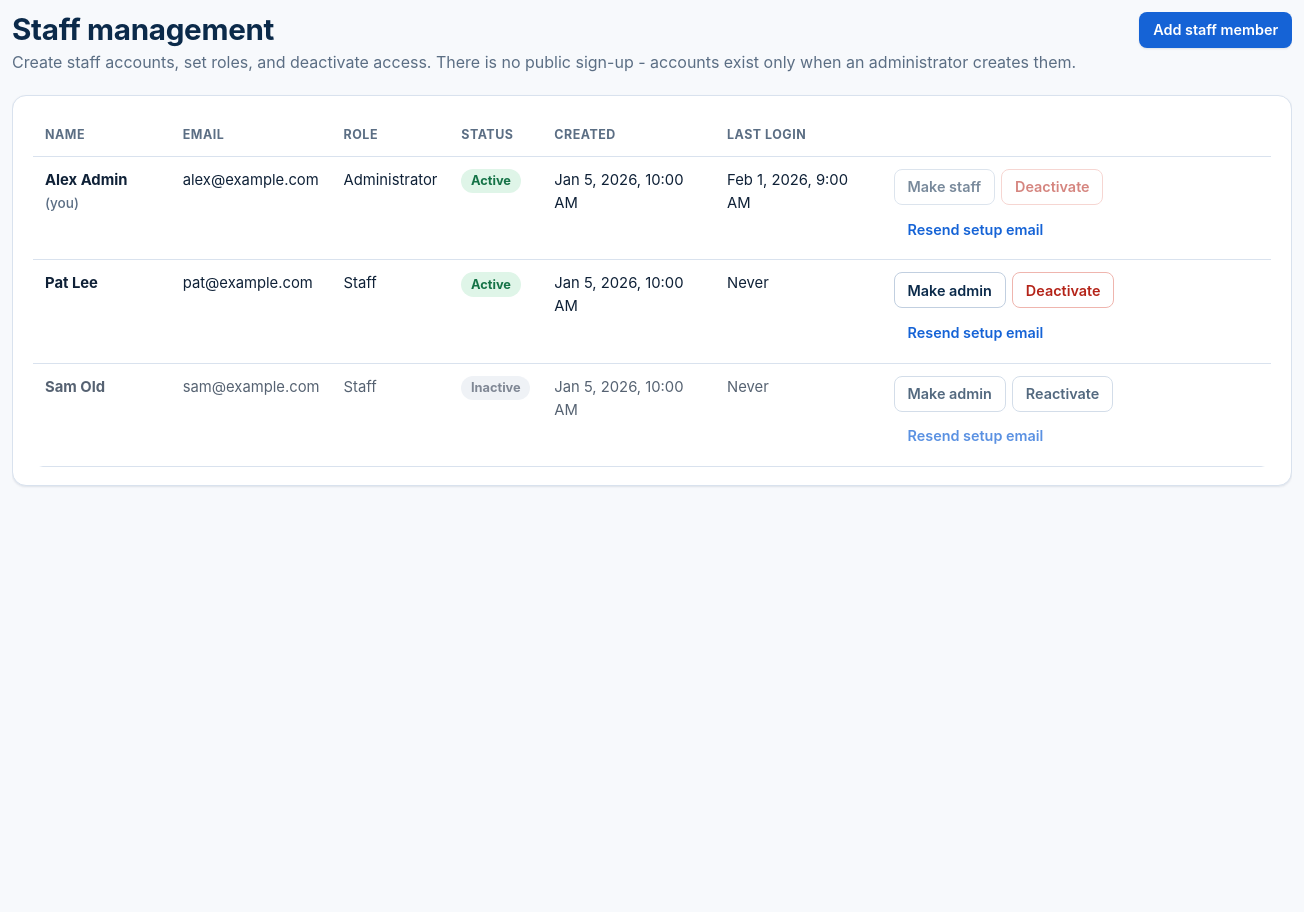
it: staff management (admin only page) › creates a staff member and emails a password-setup link (no password is ever entered)
Expected: the text "Pat Lee" is shown, [45,274,98,292]
Click the button "Add staff member" at (1216, 30), box [1139,12,1292,48]
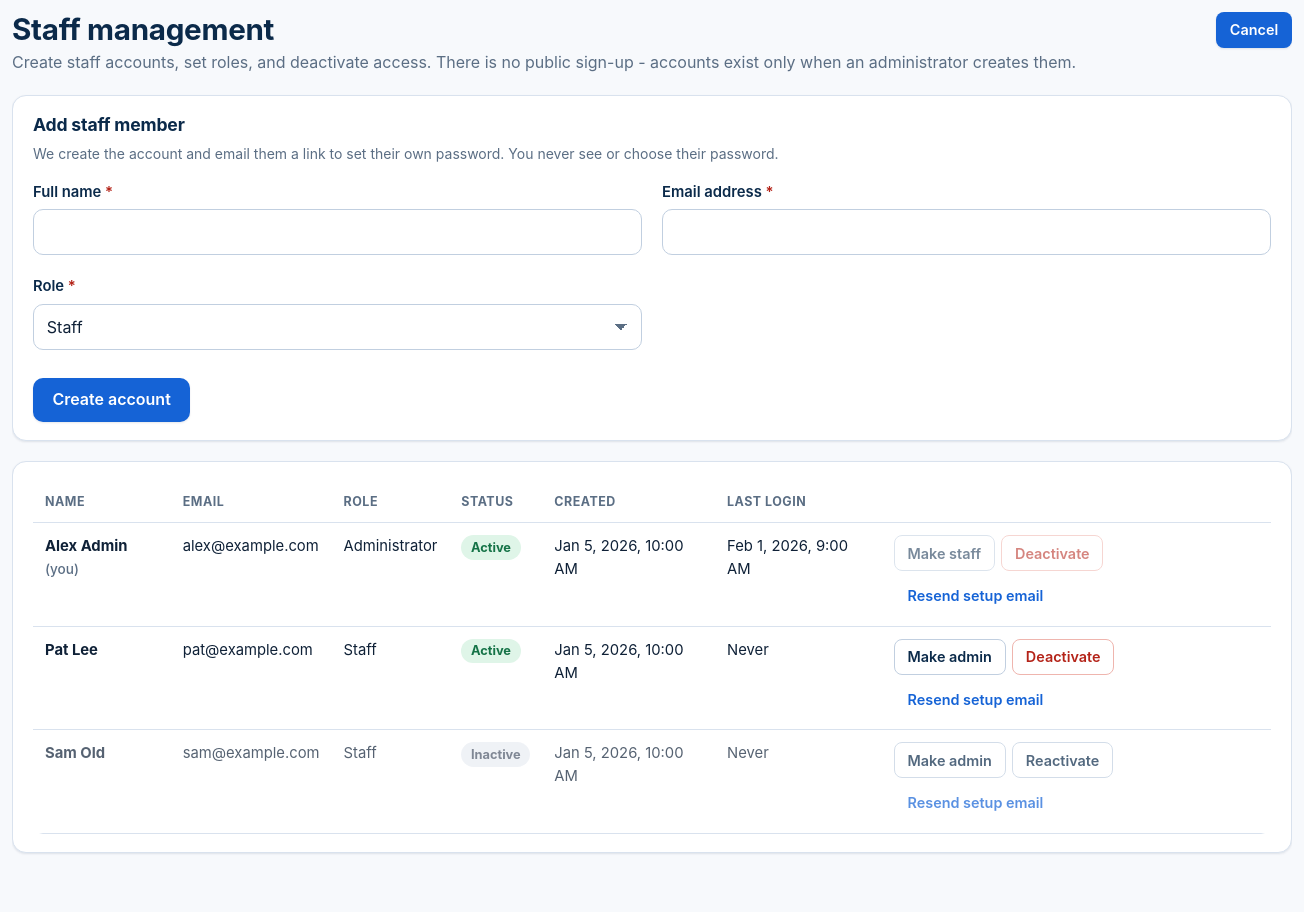
Type "Jo Nguyen" into the field labelled "Full name *" at (338, 232), box [33,209,642,255]
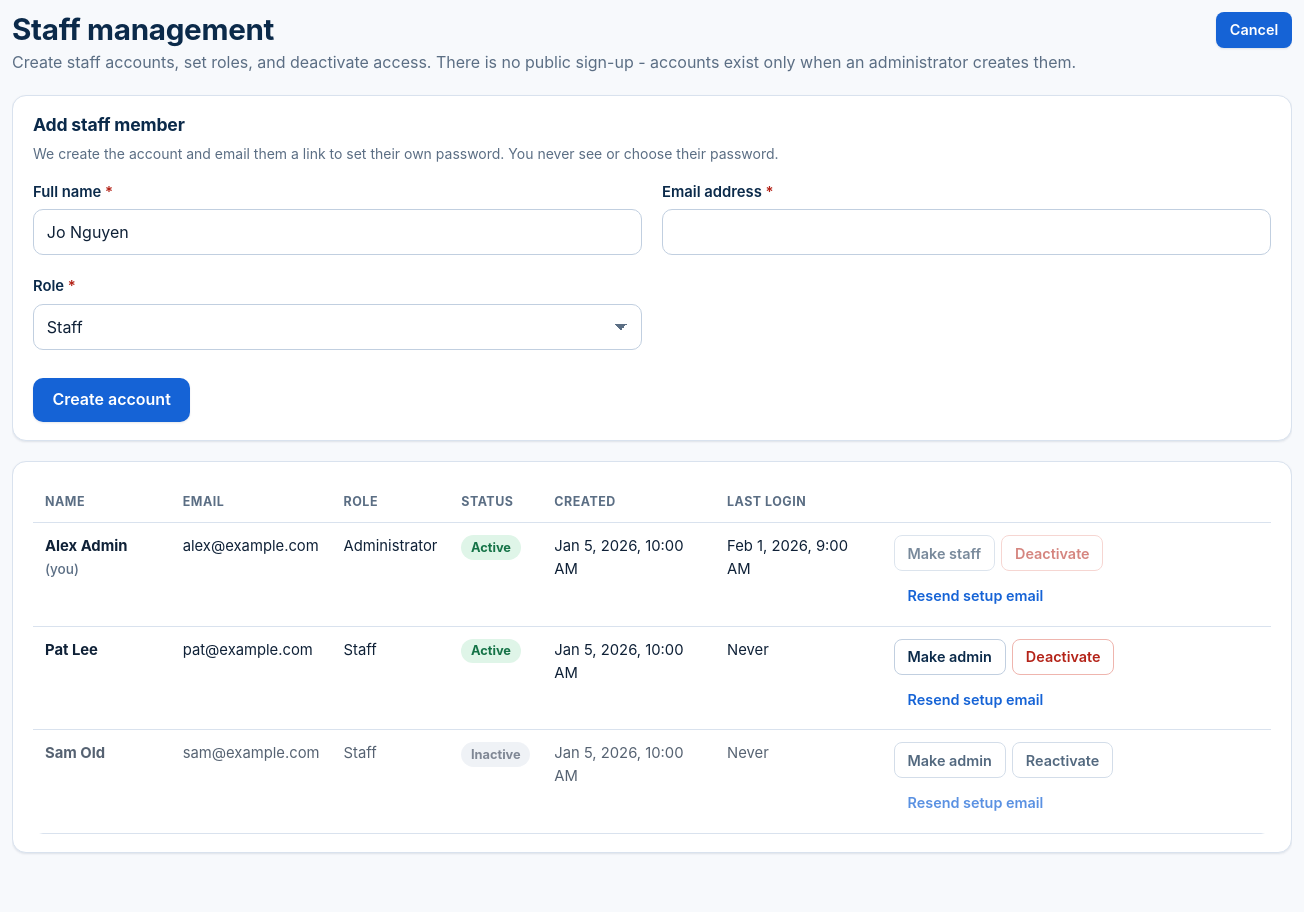
Type "Jo.Nguyen@Example.com" into the field labelled "Email address *" at (966, 232), box [662,209,1271,255]
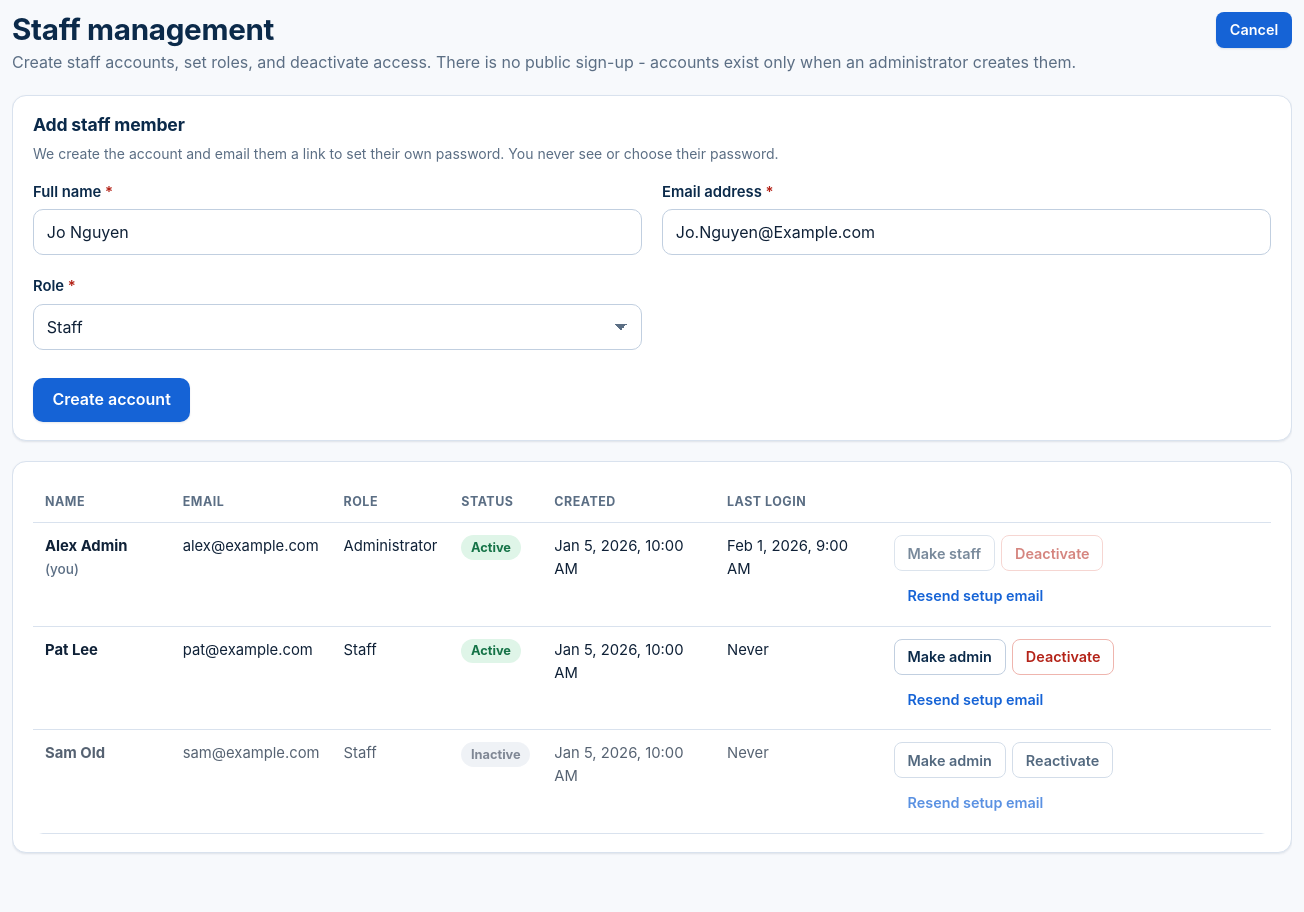
Select "Administrator" in the dropdown labelled "Role *" at (338, 327), box [33,304,642,350]
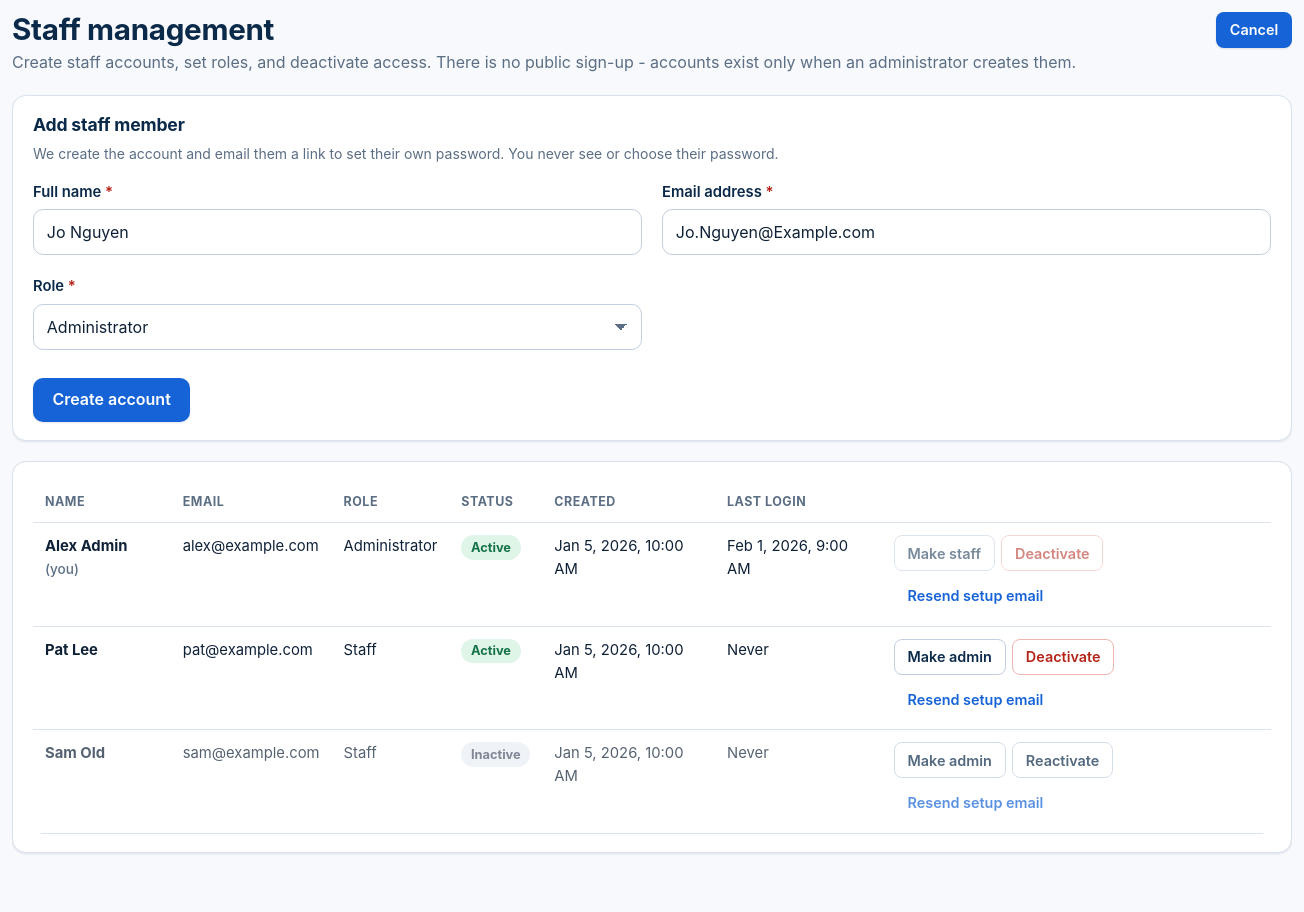
Click the button "Create account" at (112, 400), box [33,378,190,422]
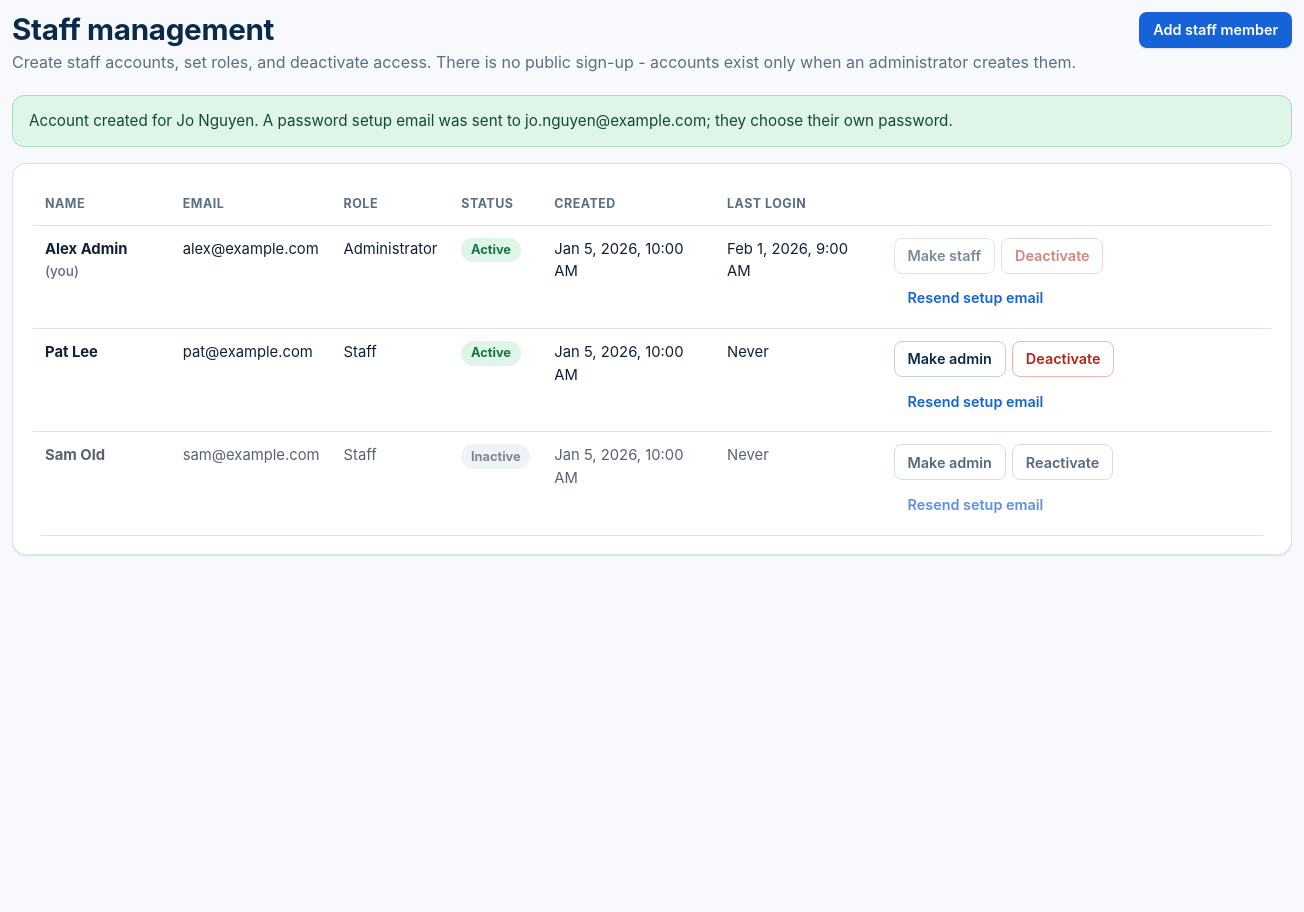
Expected: the text "A password setup email was sent to jo.nguyen@example.com" is shown, [29,111,953,130]
